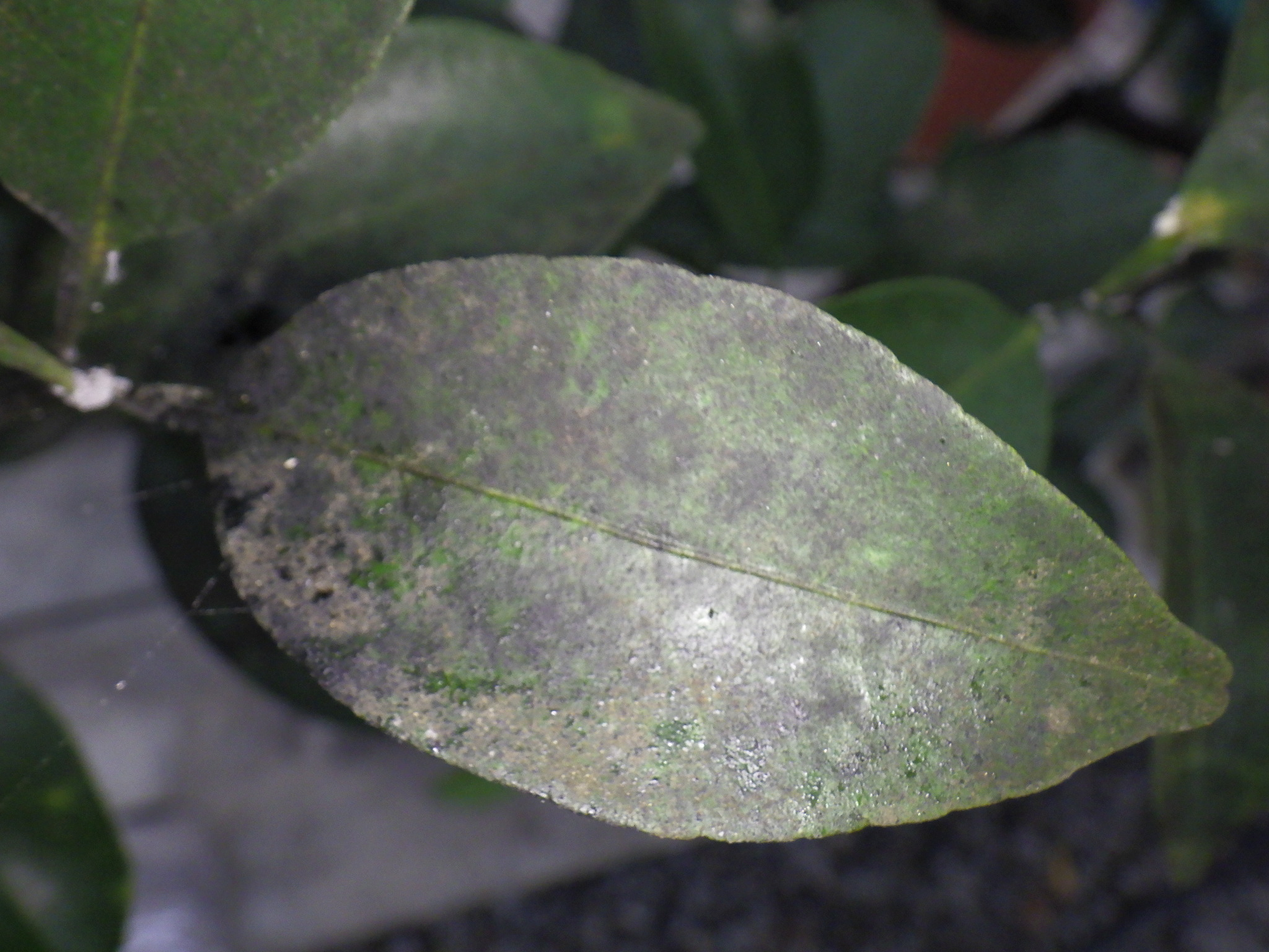Sooty_Mold: (206, 256, 1228, 840)
